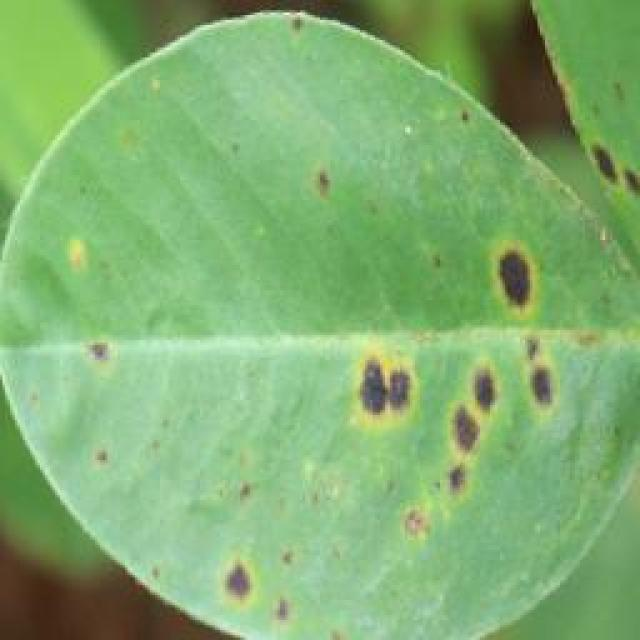Sigatoka: (416, 314, 576, 505), (443, 196, 559, 336), (198, 537, 336, 640), (208, 468, 360, 531), (334, 342, 456, 419), (572, 123, 640, 220), (82, 330, 156, 409), (288, 140, 359, 208), (376, 497, 447, 559), (87, 432, 144, 498), (282, 2, 330, 66), (449, 90, 494, 142)
